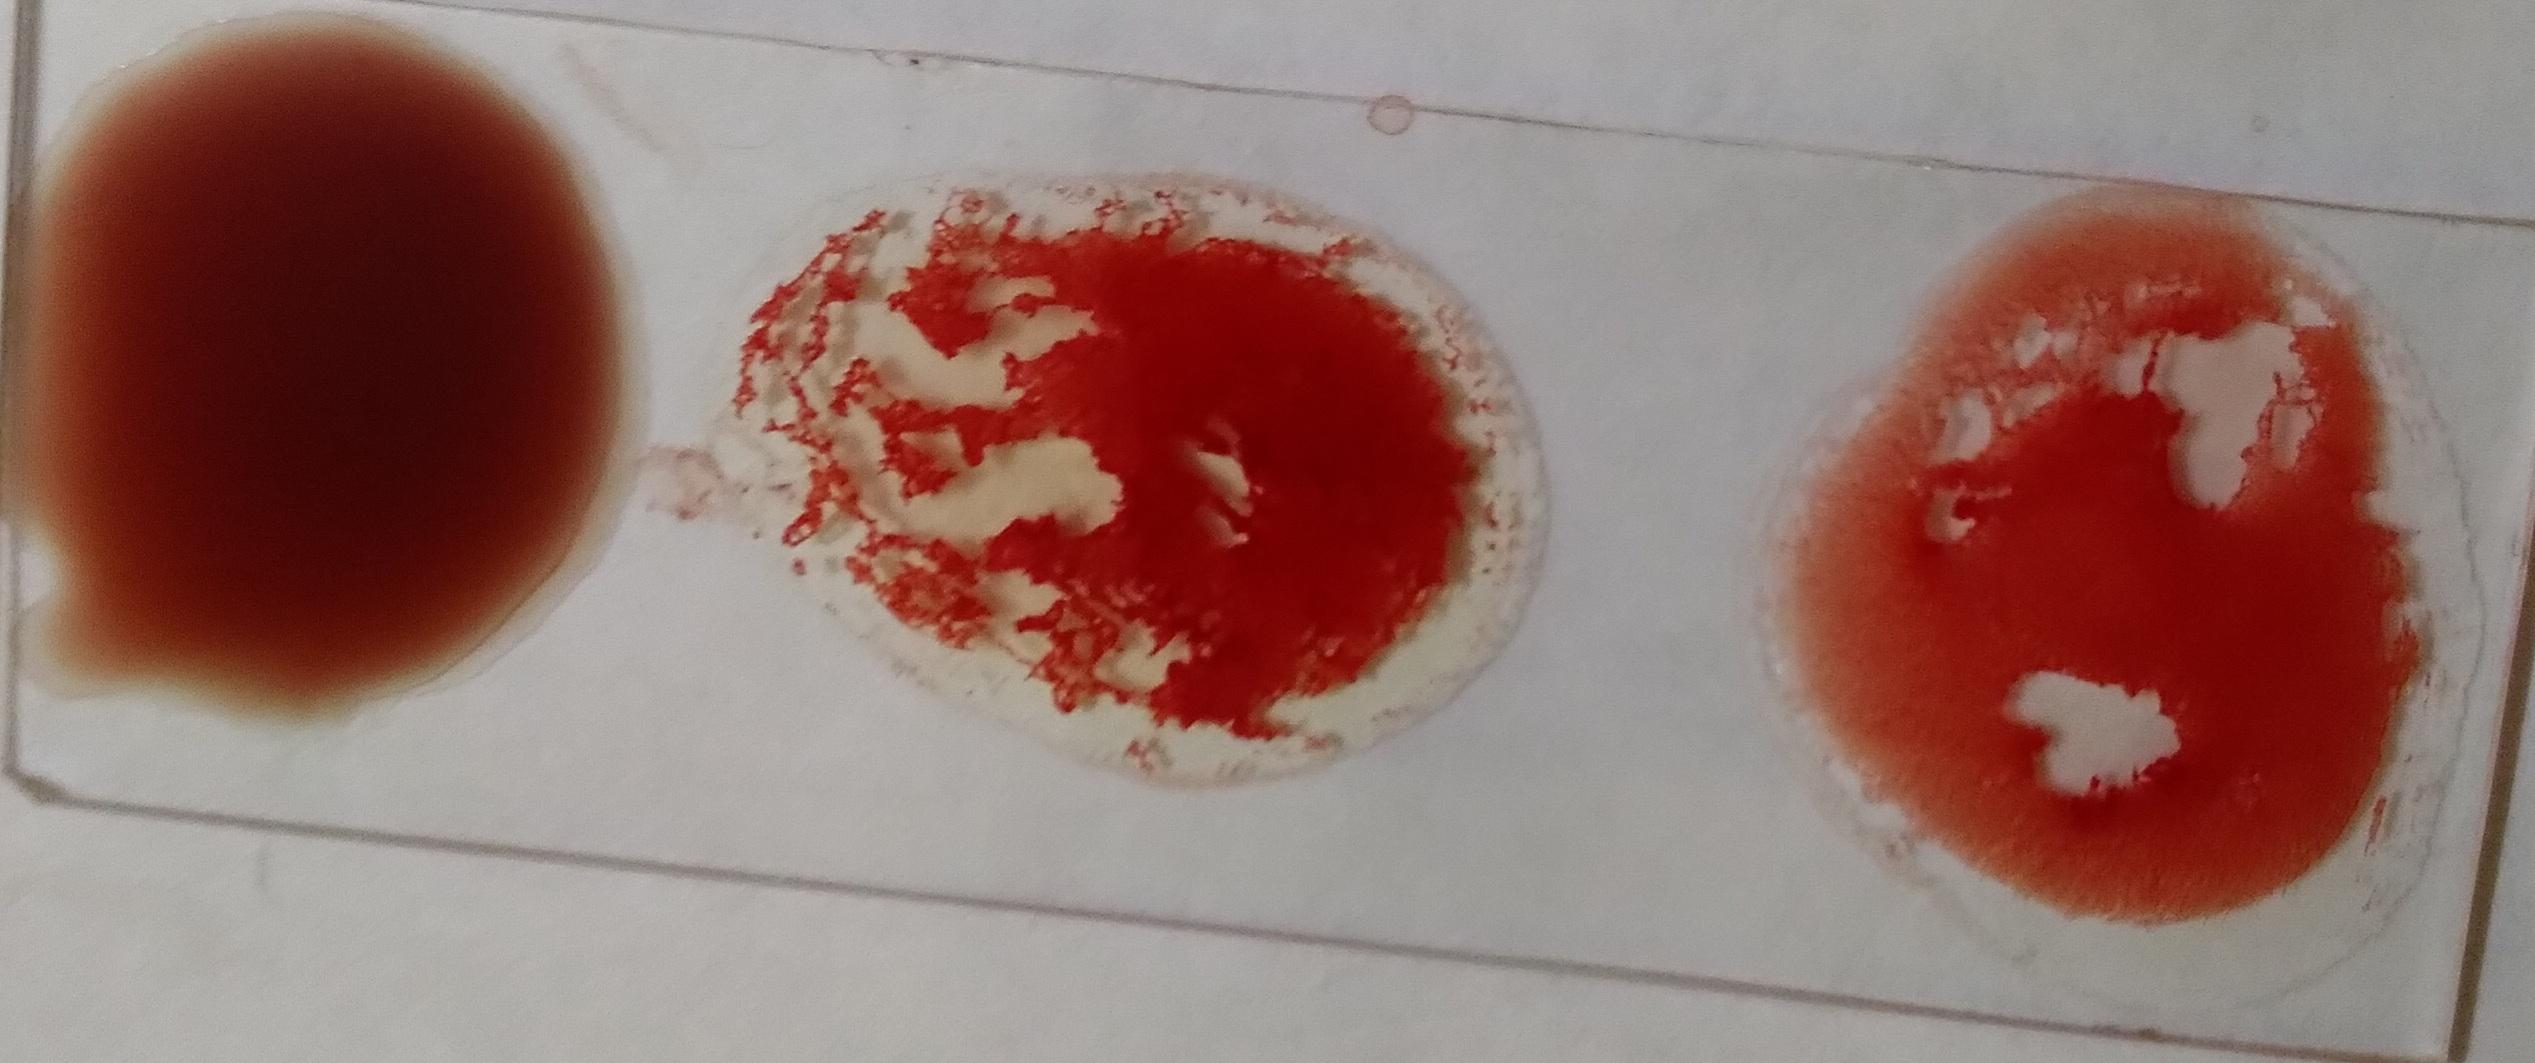B: (750, 184, 1555, 784)
D: (1785, 205, 2469, 997)
